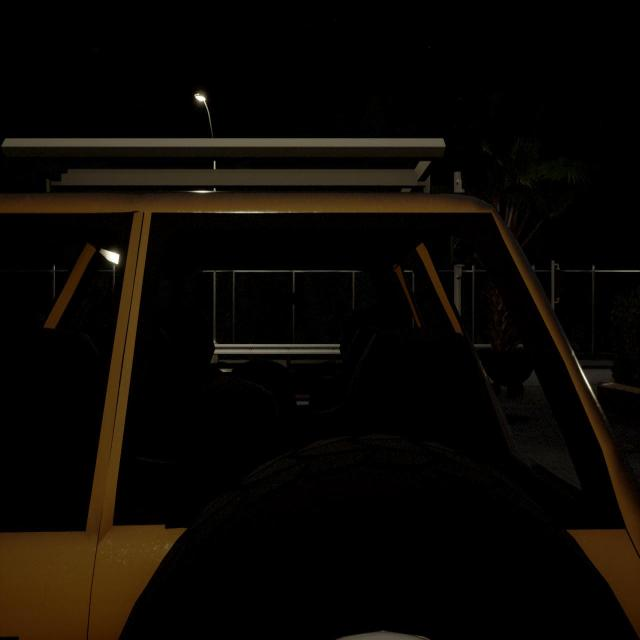Vehicle: (0, 138, 640, 640)
traffic_light: (453, 221, 469, 266), (555, 270, 562, 298)
